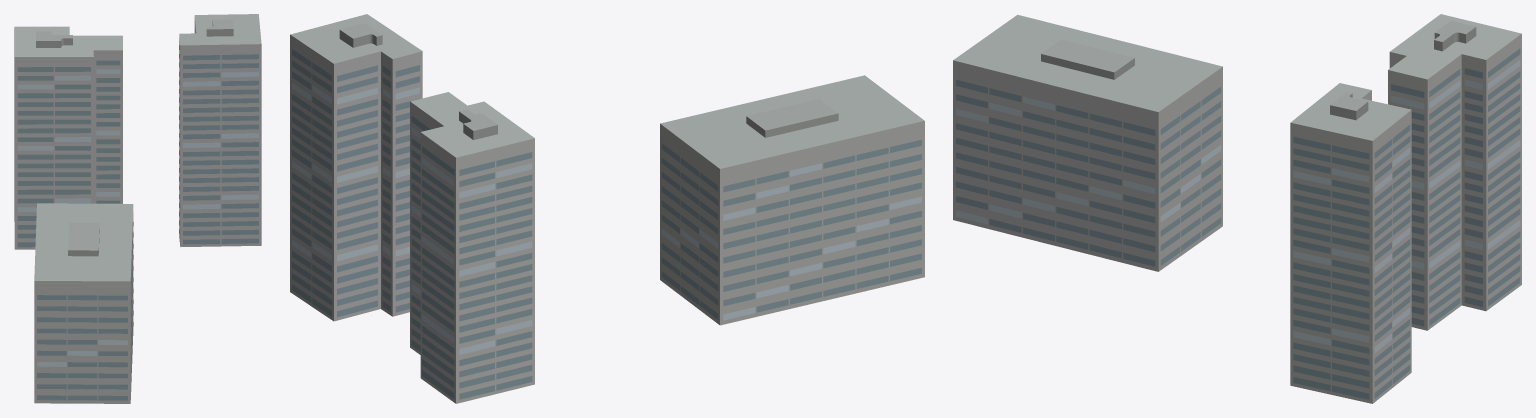
File: apt-a10024408.glb
The picture shows the model from 3 angles, left to right: view 1: azimuth 30°, elevation 25°; view 2: azimuth 150°, elevation 25°; view 3: azimuth 270°, elevation 25°; orthographic projection. The views are drawn at different scales.
Visible parts, largest first — view 1: apt-a10024408; view 2: apt-a10024408; view 3: apt-a10024408.
Boxes of the visible parts, left/top/right/bottom form: apt-a10024408: left=14, top=14, right=261, bottom=403; apt-a10024408: left=290, top=14, right=924, bottom=403; apt-a10024408: left=953, top=14, right=1521, bottom=403.
Bounding box in the file's own units: 127 × 70 × 133.
